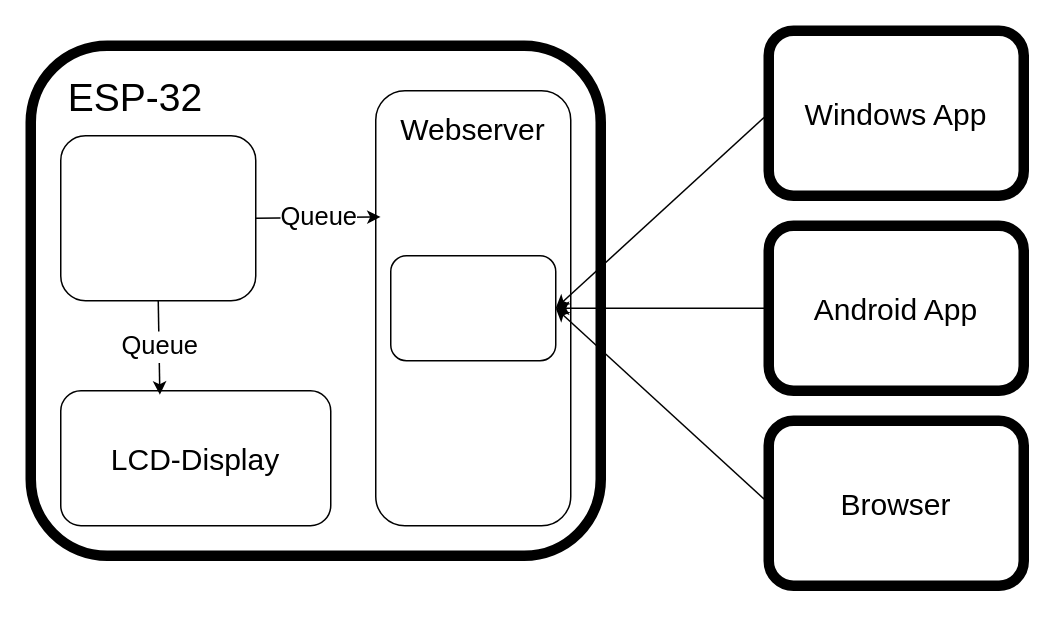
Image size: 1055x617. Some labels were removed from this diagram. The shapes that lost their labels are listed below. From the top down, each one's box as (x1, y1, x2, y2) in pixels, then its label:
(59, 134, 256, 301): CAN-Repository
(389, 254, 556, 361): REST-API
